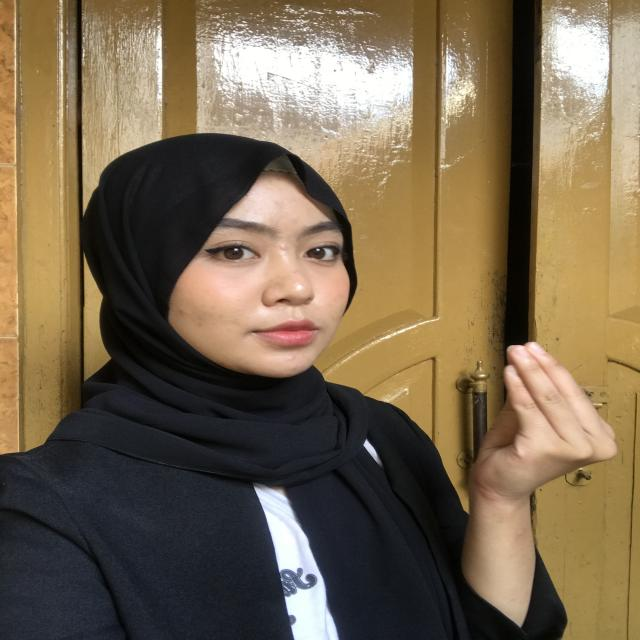kapan: (480, 340, 618, 508)
